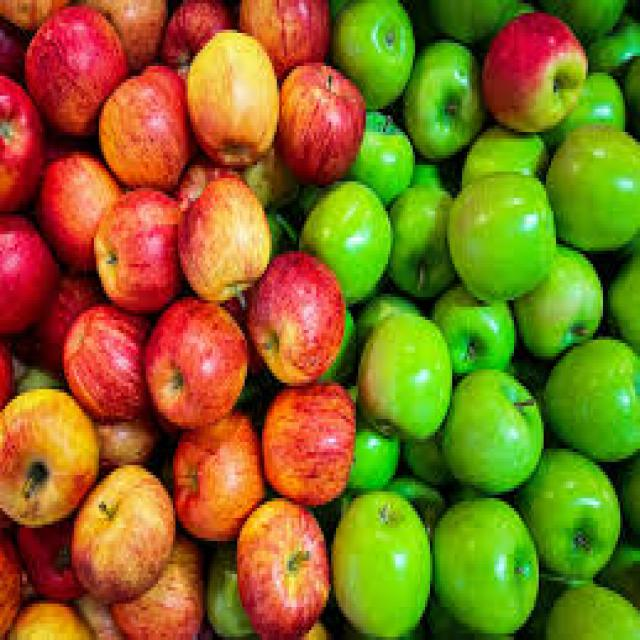manzana: (429, 167, 566, 313), (87, 187, 207, 338)
